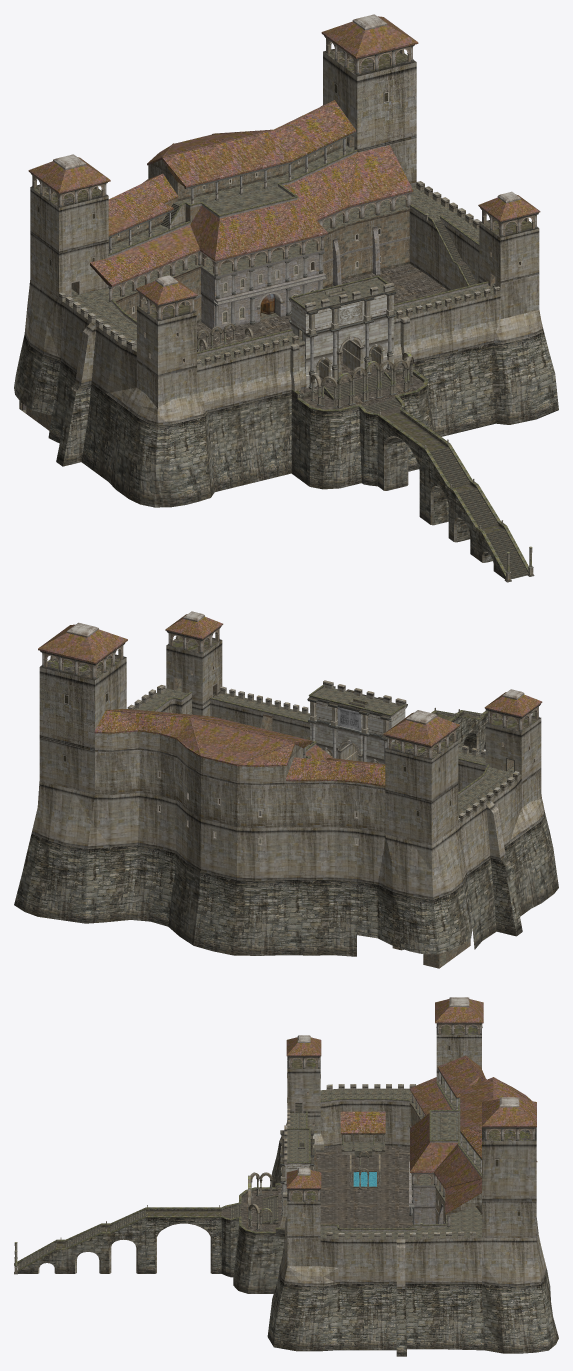
The model's file is castle1.dae.
The picture shows the model from 3 angles, top to bottom: view 1: azimuth 30°, elevation 25°; view 2: azimuth 150°, elevation 25°; view 3: azimuth 270°, elevation 25°; orthographic projection. The views are drawn at different scales.
Visible parts, largest first — view 1: unnamed_object1_copy102-0; view 2: unnamed_object1_copy102-0; view 3: unnamed_object1_copy102-0.
Part boxes in pixels (x1=…): unnamed_object1_copy102-0: x1=14, y1=14, x2=558, y2=582; unnamed_object1_copy102-0: x1=14, y1=611, x2=558, y2=968; unnamed_object1_copy102-0: x1=14, y1=997, x2=558, y2=1356.
Size of the model in its own units: 16804 by 10293 by 22004.
